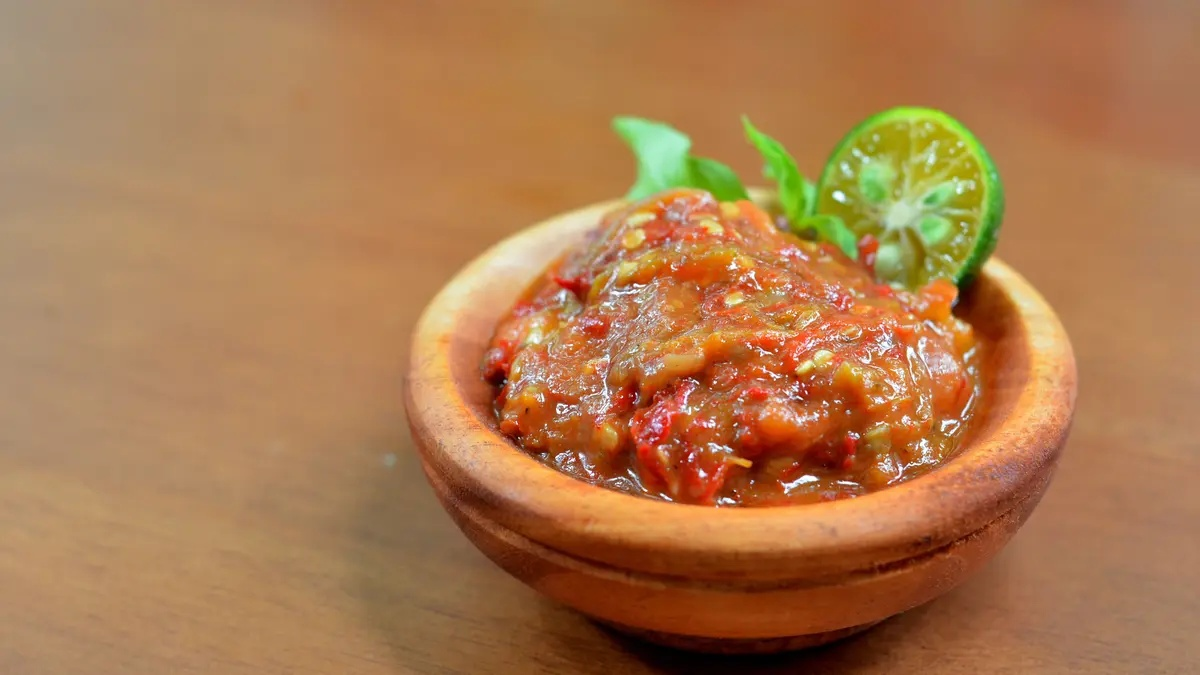sambal: (484, 192, 987, 505)
